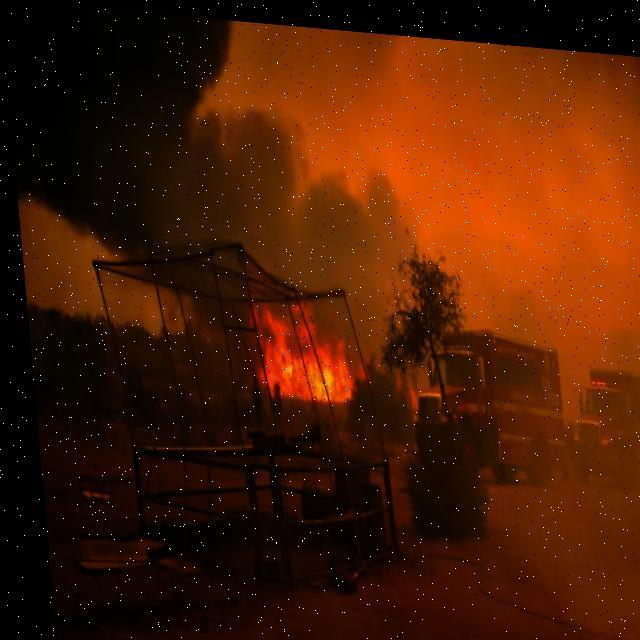Fire: (236, 281, 360, 411)
